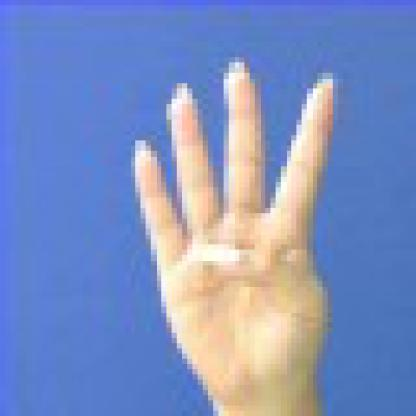four: (109, 47, 359, 411)
